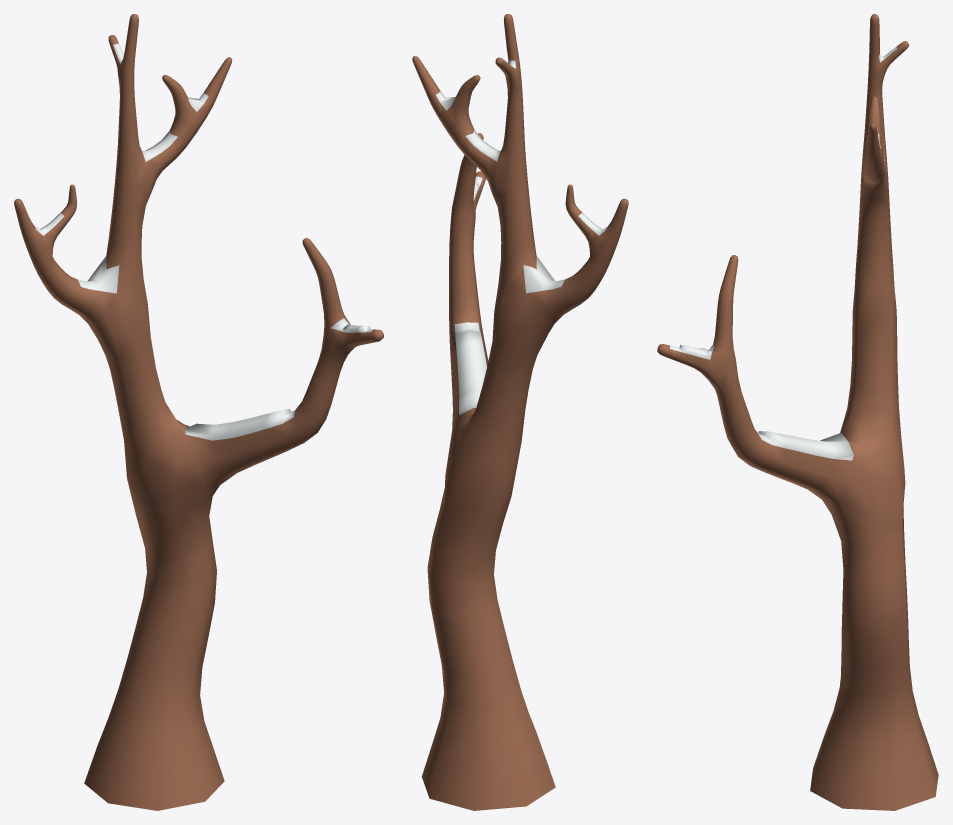
The model's file is Tree Middle 1.fbx.
3 views of the same model, side by side, from view 1: azimuth 30°, elevation 25°; view 2: azimuth 150°, elevation 25°; view 3: azimuth 270°, elevation 25° (orthographic).
Parts seen in each view (by area): view 1: Tree Middle 1; view 2: Tree Middle 1; view 3: Tree Middle 1.
Part boxes in pixels (x1,y1,x2,y2): Tree Middle 1: (14, 14, 383, 810); Tree Middle 1: (412, 14, 628, 810); Tree Middle 1: (657, 14, 938, 810).
Size of the model in its own units: 841 by 2386 by 800.
